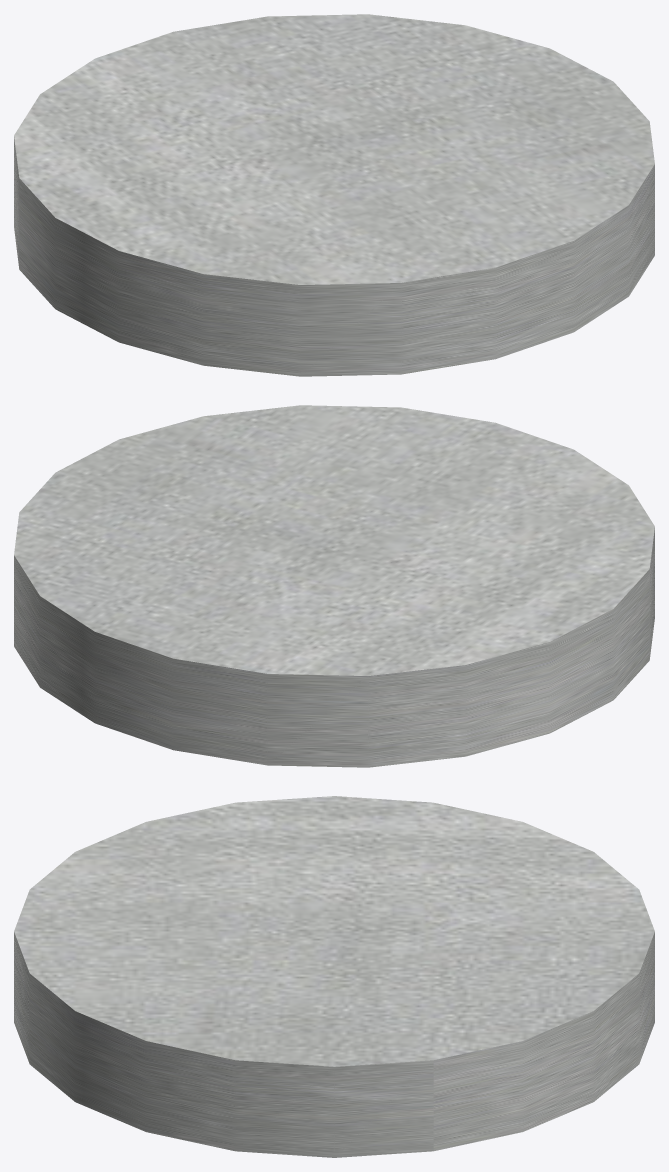
Rendered from LightHead.FBX.
The picture shows the model from 3 angles, top to bottom: view 1: azimuth 30°, elevation 25°; view 2: azimuth 150°, elevation 25°; view 3: azimuth 270°, elevation 25°; orthographic projection.
Visible parts, largest first — view 1: pCylinder1; view 2: pCylinder1; view 3: pCylinder1.
Boxes of the visible parts, x1,y1,x2,y2 form: pCylinder1: [14, 14, 654, 376]; pCylinder1: [14, 405, 654, 767]; pCylinder1: [14, 796, 654, 1157].
Size of the model in its own units: 9.07 by 1.42 by 9.07.
Materials: 1 (1 with a texture image).
